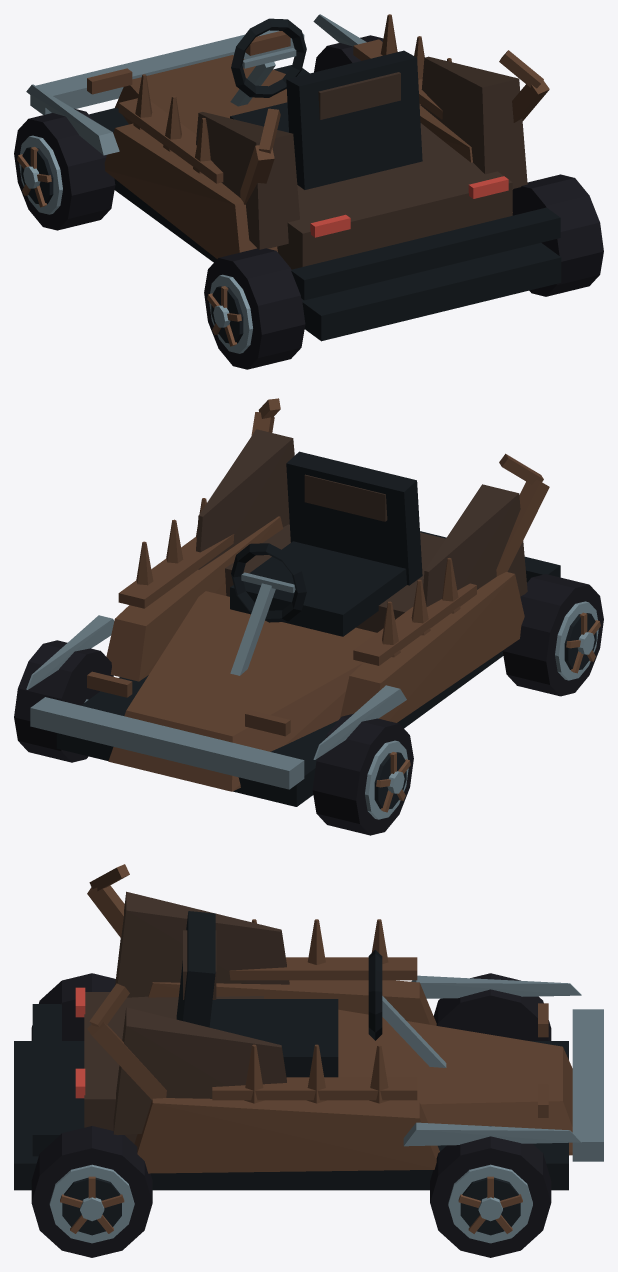
Rendered from kart.glb.
The picture shows the model from 3 angles, top to bottom: view 1: azimuth 30°, elevation 25°; view 2: azimuth 150°, elevation 25°; view 3: azimuth 270°, elevation 25°; orthographic projection. The views are drawn at different scales.
Parts seen in each view (by area): view 1: chassis, wheel-rear-left, wheel-front-left, wheel-rear-right, wheel-front-right; view 2: chassis, wheel-front-left, wheel-rear-left, wheel-front-right; view 3: chassis, wheel-rear-right, wheel-front-right, wheel-front-left, wheel-rear-left.
Boxes of the visible parts, x1=… form: chassis: x1=26, y1=14, x2=561, y2=341; wheel-rear-left: x1=204, y1=248, x2=305, y2=369; wheel-front-left: x1=14, y1=108, x2=115, y2=230; wheel-rear-right: x1=512, y1=174, x2=603, y2=296; wheel-front-right: x1=314, y1=35, x2=383, y2=72; chassis: x1=26, y1=398, x2=560, y2=806; wheel-front-left: x1=312, y1=713, x2=413, y2=835; wheel-rear-left: x1=502, y1=574, x2=603, y2=696; wheel-front-right: x1=14, y1=640, x2=113, y2=762; chassis: x1=14, y1=864, x2=603, y2=1190; wheel-rear-right: x1=31, y1=1126, x2=152, y2=1257; wheel-front-right: x1=430, y1=1126, x2=551, y2=1257; wheel-front-left: x1=433, y1=973, x2=551, y2=1040; wheel-rear-left: x1=31, y1=973, x2=115, y2=1040.
Size of the model in its own units: 2.29 by 1.38 by 3.02.
